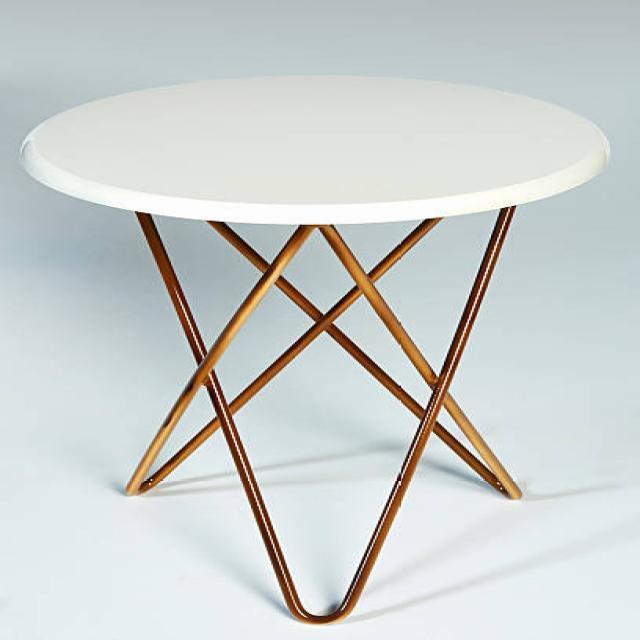table: (17, 73, 610, 624)
